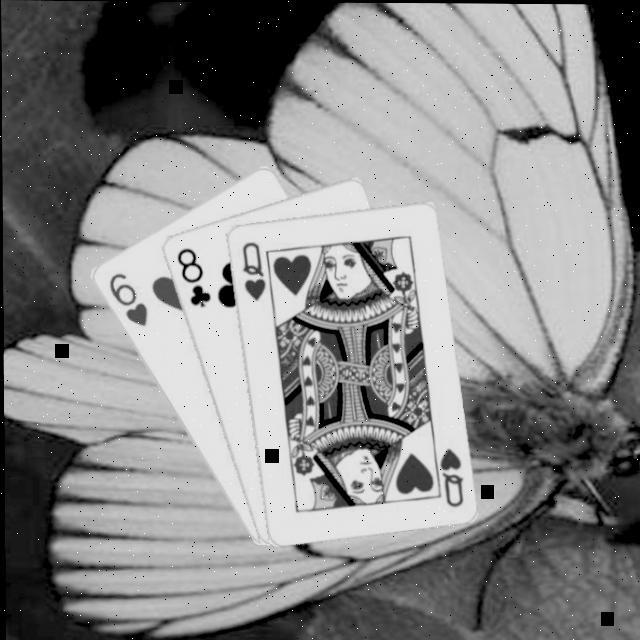6H: (105, 268, 150, 328)
8C: (173, 243, 214, 309)
QH: (428, 436, 466, 508), (238, 236, 268, 302)
